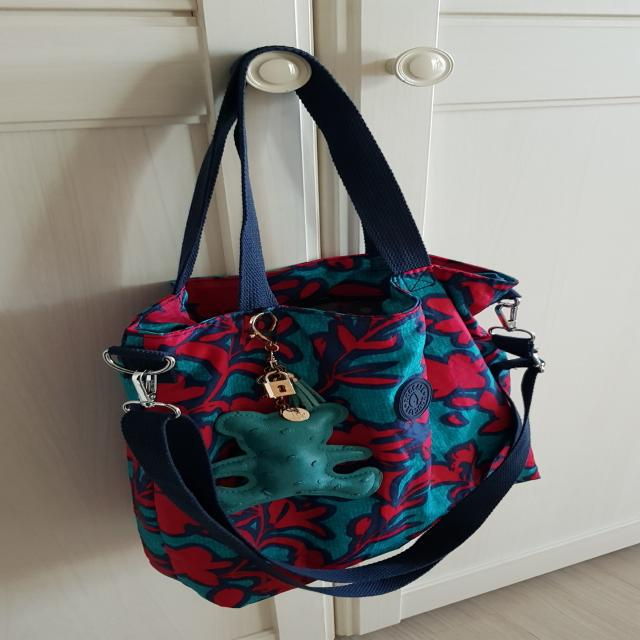ecobag: (101, 34, 582, 598)
